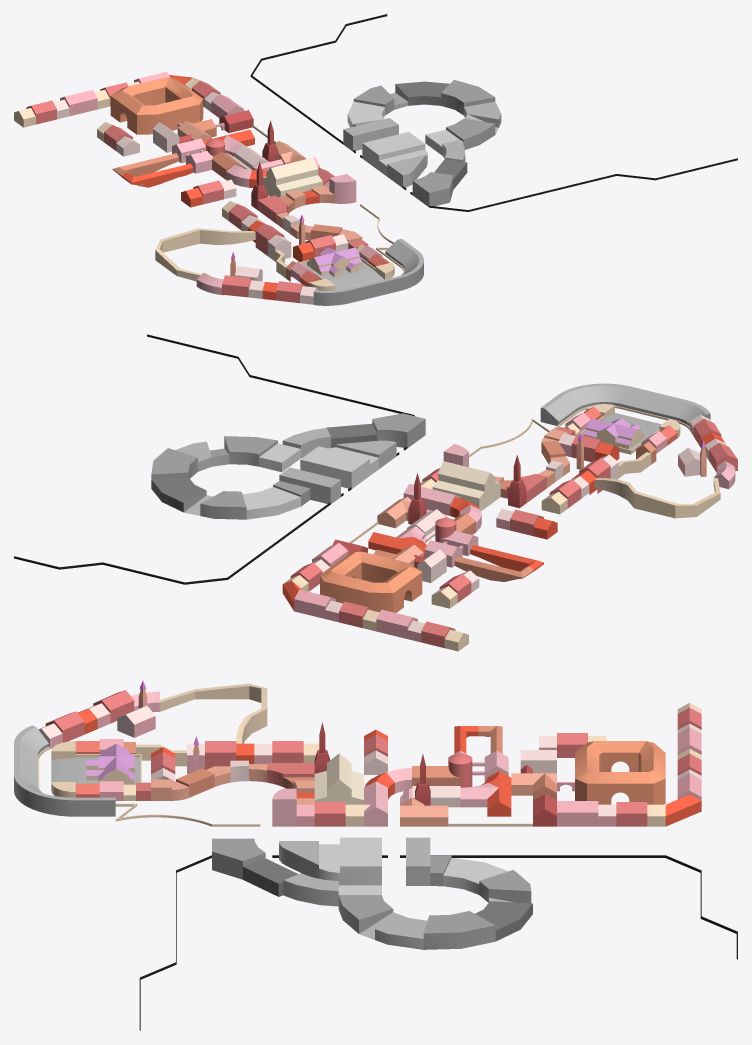
Rendered from Coast Town Test Track buildings.fbx.
3 views of the same model, one above another, from view 1: azimuth 30°, elevation 25°; view 2: azimuth 150°, elevation 25°; view 3: azimuth 270°, elevation 25° (orthographic). The views are drawn at different scales.
Visible parts, largest first — view 1: G-Object; view 2: G-Object; view 3: G-Object.
Part boxes in pixels (<box>): G-Object: <box>14,14,737,305</box>; G-Object: <box>14,334,737,651</box>; G-Object: <box>14,680,737,1030</box>.
Bounding box in the file's own units: 131000 × 12000 × 119981.
